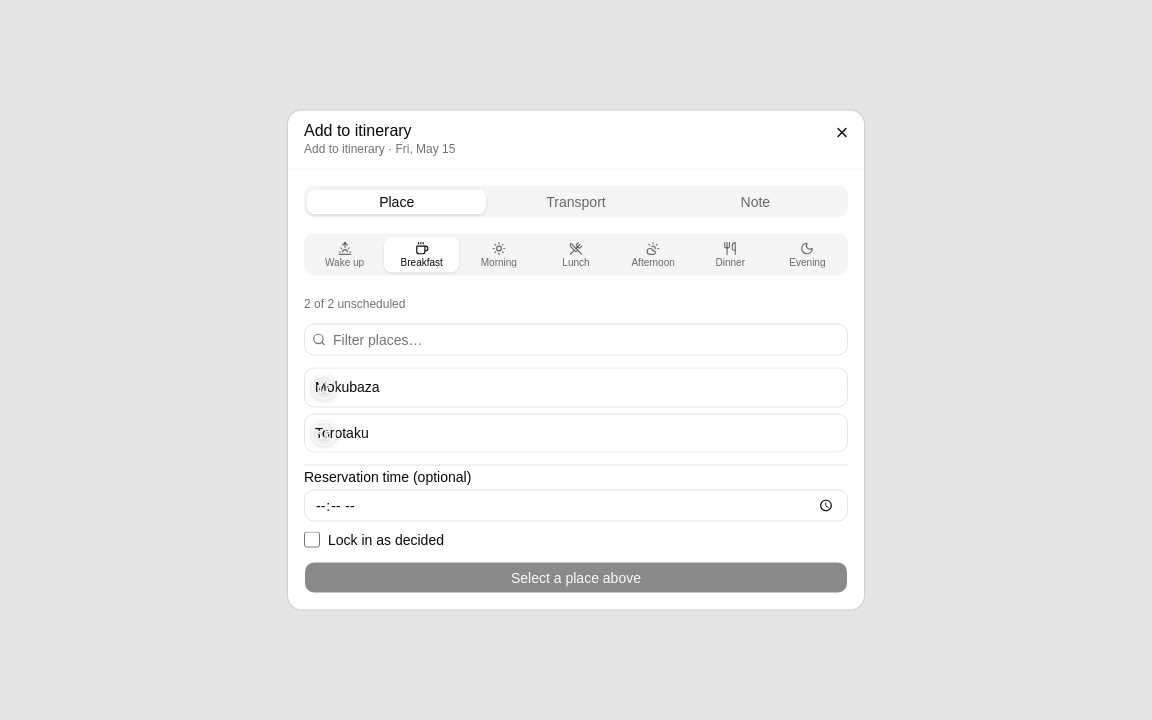
Test: AddItemDialog (controlled API) › shows "No matches" when the filter excludes everything
This screenshot has width=1152, height=720.
Type "xyzzy" into the field with placeholder "Filter places…" at [576, 340], box x1=304 y1=324 x2=848 y2=356
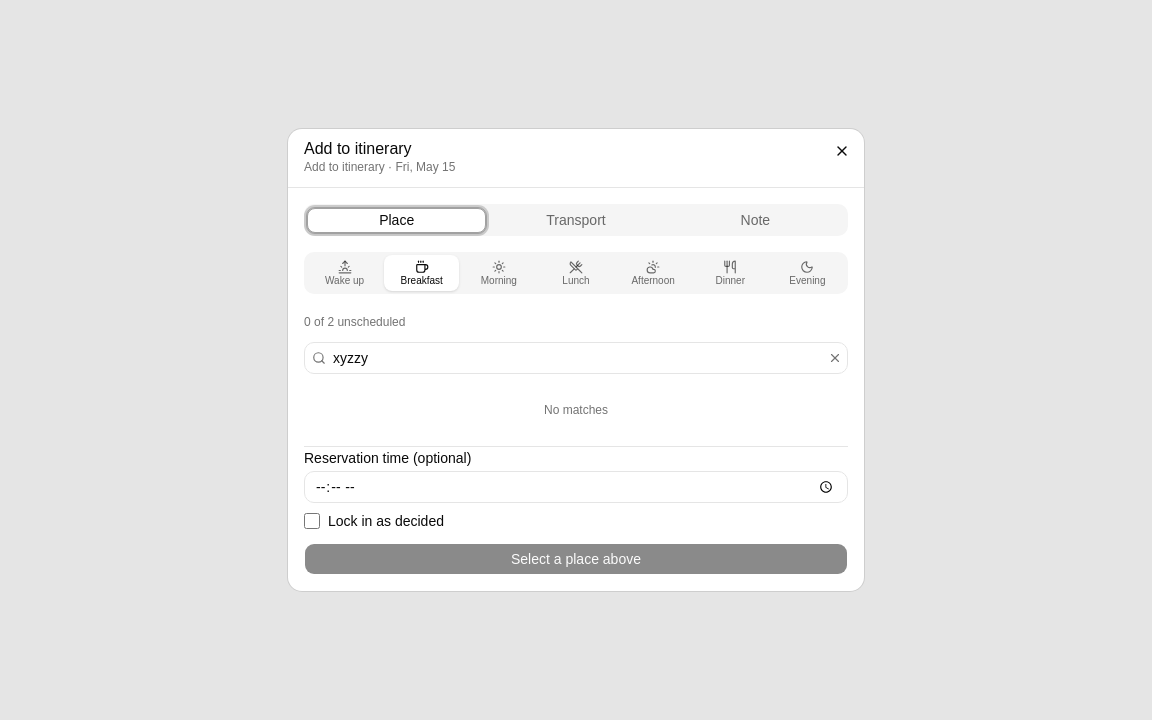
Now the text "No matches" is shown, box x1=544 y1=403 x2=608 y2=417
